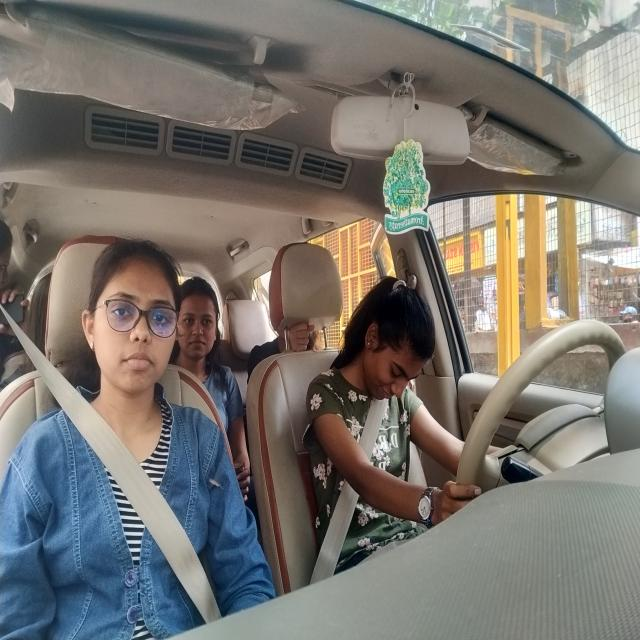drowsy: (354, 269, 439, 420)
person: (75, 224, 190, 445), (172, 260, 226, 380)
